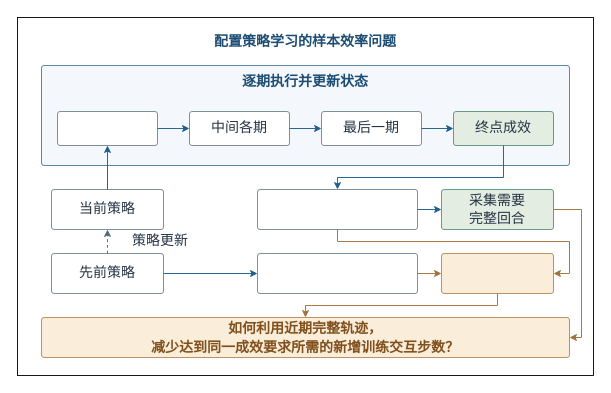
This 611x393 diagram has some shape labels left out. Each missing label, with the box of its shape:
复用需考虑 策略分布差异: (441, 253, 553, 293)
新完整轨迹: (257, 189, 417, 229)
第1期: (57, 111, 157, 145)
近期完整轨迹: (257, 253, 417, 293)
